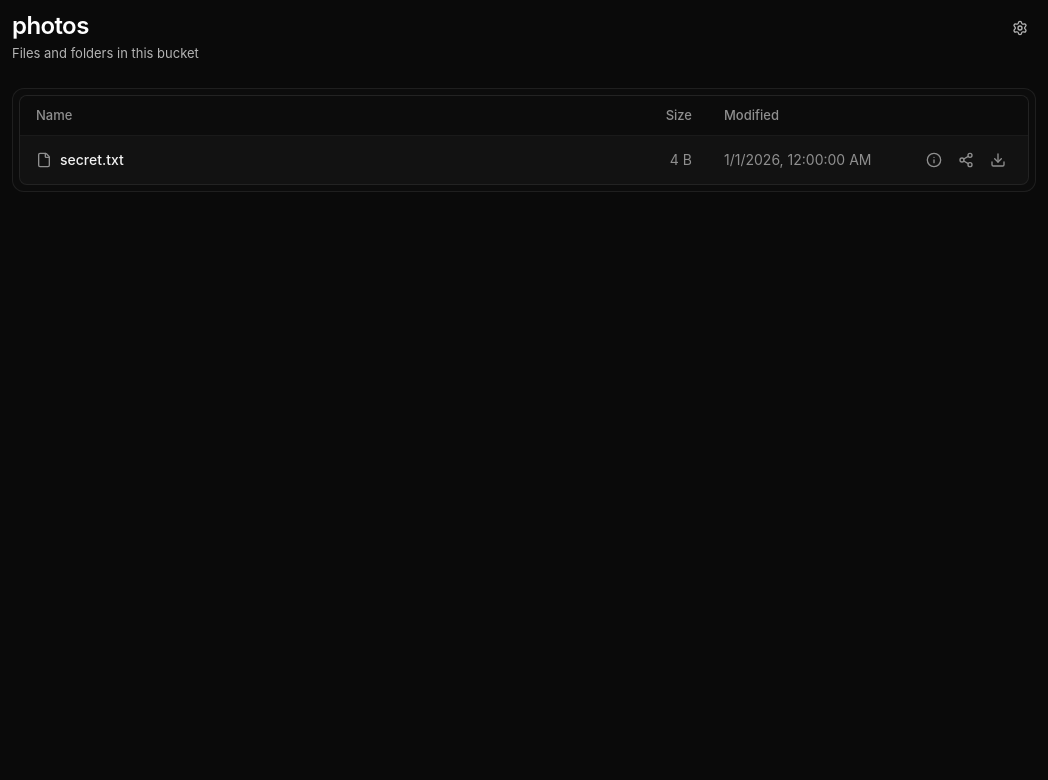
Test: denied download stays on the page and shows the error
The width and height of the screenshot is (1048, 780).
Click the button named "Download" at (998, 160), box [984,146,1012,174]
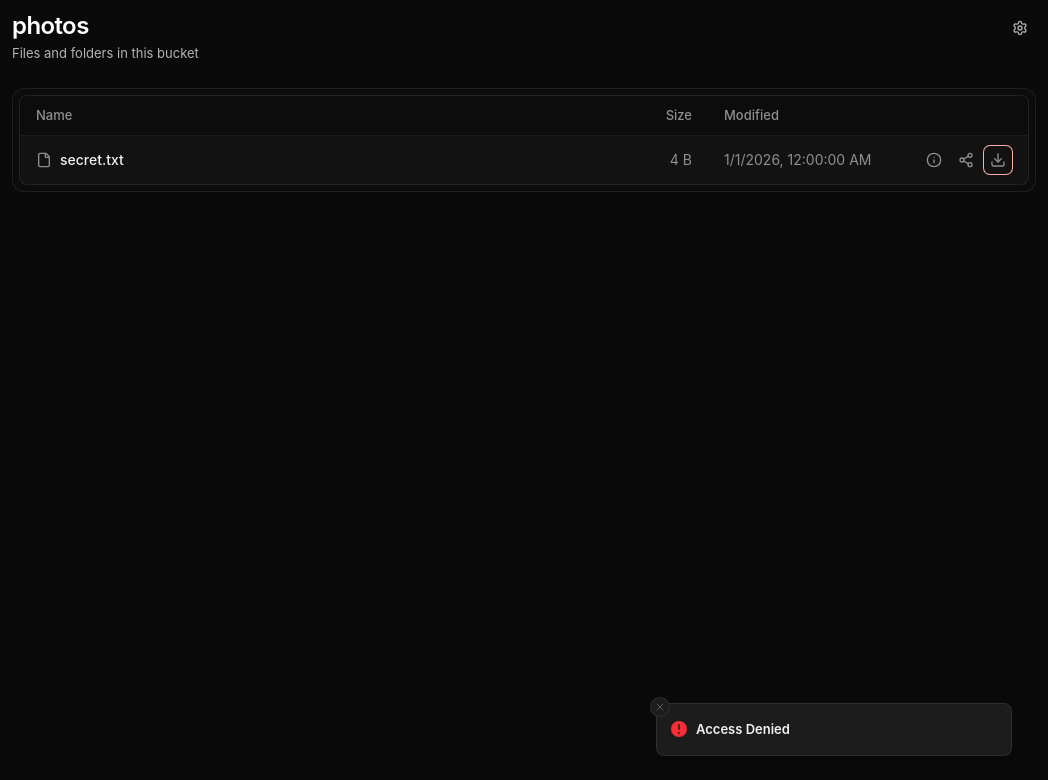
Expected: the text "secret.txt" is shown, [60,150,124,170]
Expected: the text "Access Denied" is shown, [696,720,790,739]
